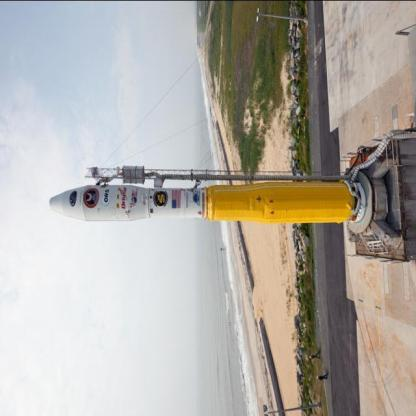MIL_TBM: (44, 180, 366, 226)
